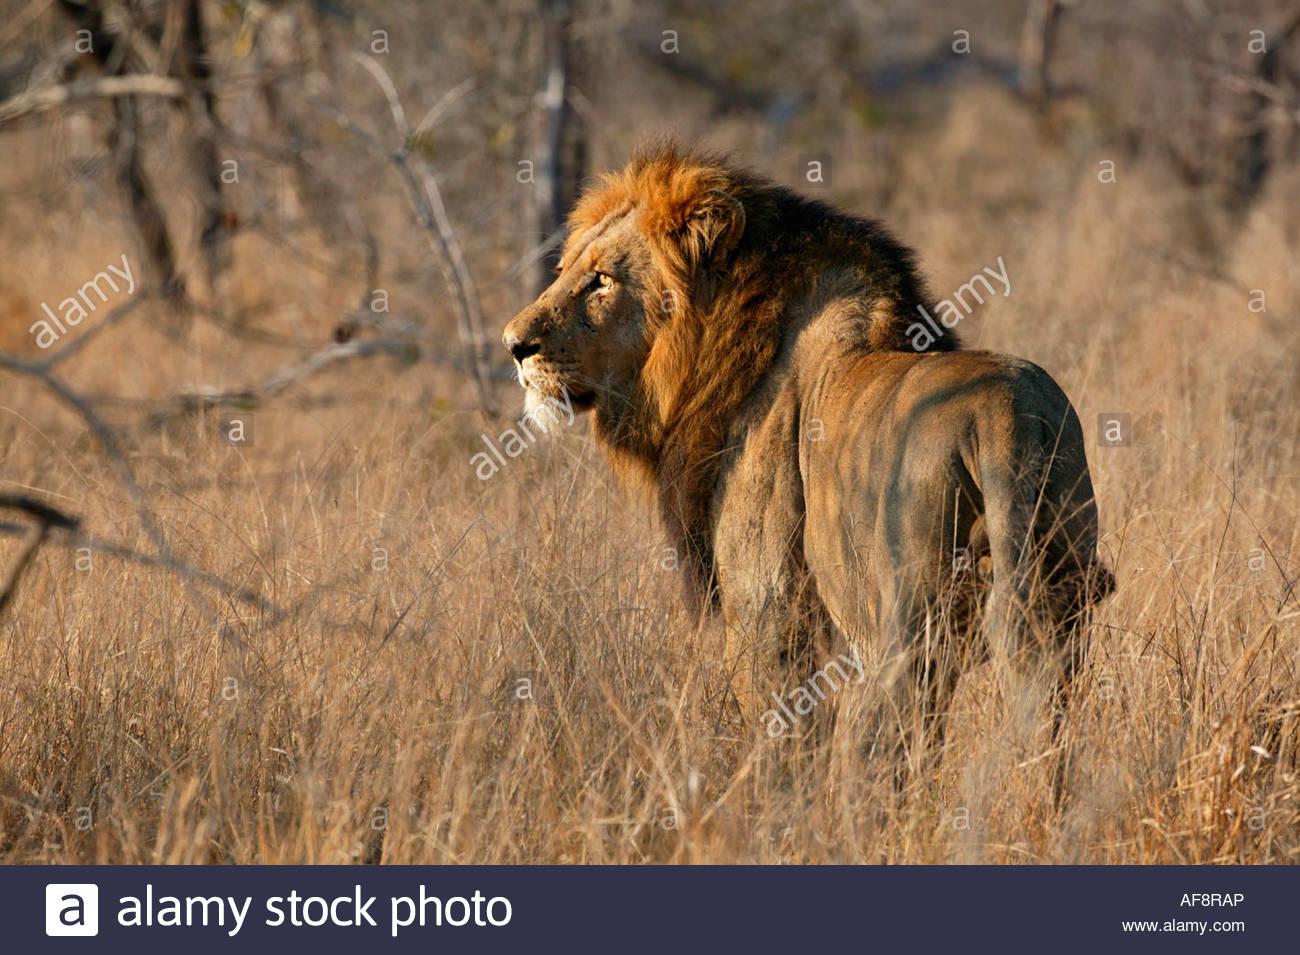lion: (496, 126, 1116, 783)
